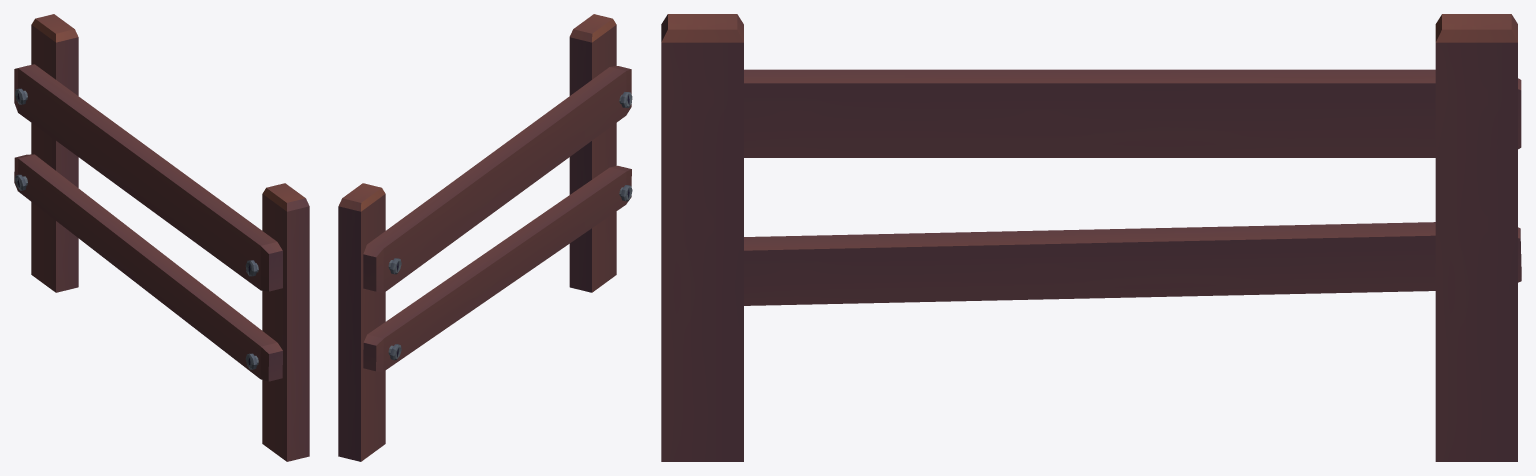
Rendered from Town_Fence02.fbx.
3 renders of one model, left to right at view 1: azimuth 30°, elevation 25°; view 2: azimuth 150°, elevation 25°; view 3: azimuth 270°, elevation 25°, orthographic. The views are drawn at different scales.
Visible parts, largest first — view 1: Cube.024; view 2: Cube.024; view 3: Cube.024.
Part boxes in pixels (x1,y1,x2,y2): Cube.024: (14,14,309,461); Cube.024: (338,14,632,461); Cube.024: (661,14,1521,461).
Size of the model in its own units: 19.55 by 99.55 by 180.
